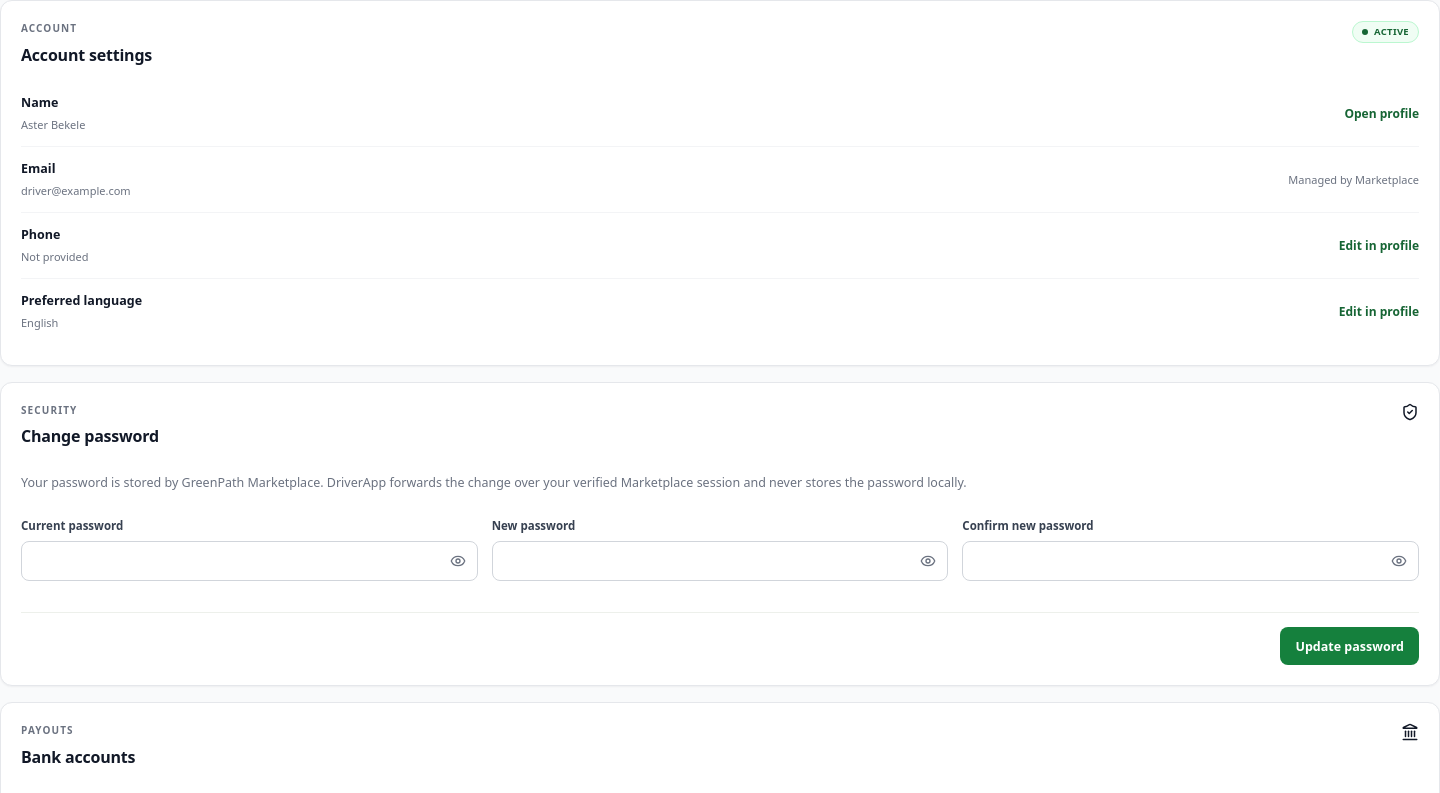
Test case: Driver settings › blocks submission when the new passwords do not match
The image size is (1440, 793).
Type "existing-password" into the password field labelled "Current password". click: {"x": 249, "y": 561}
box: [21, 541, 478, 581]
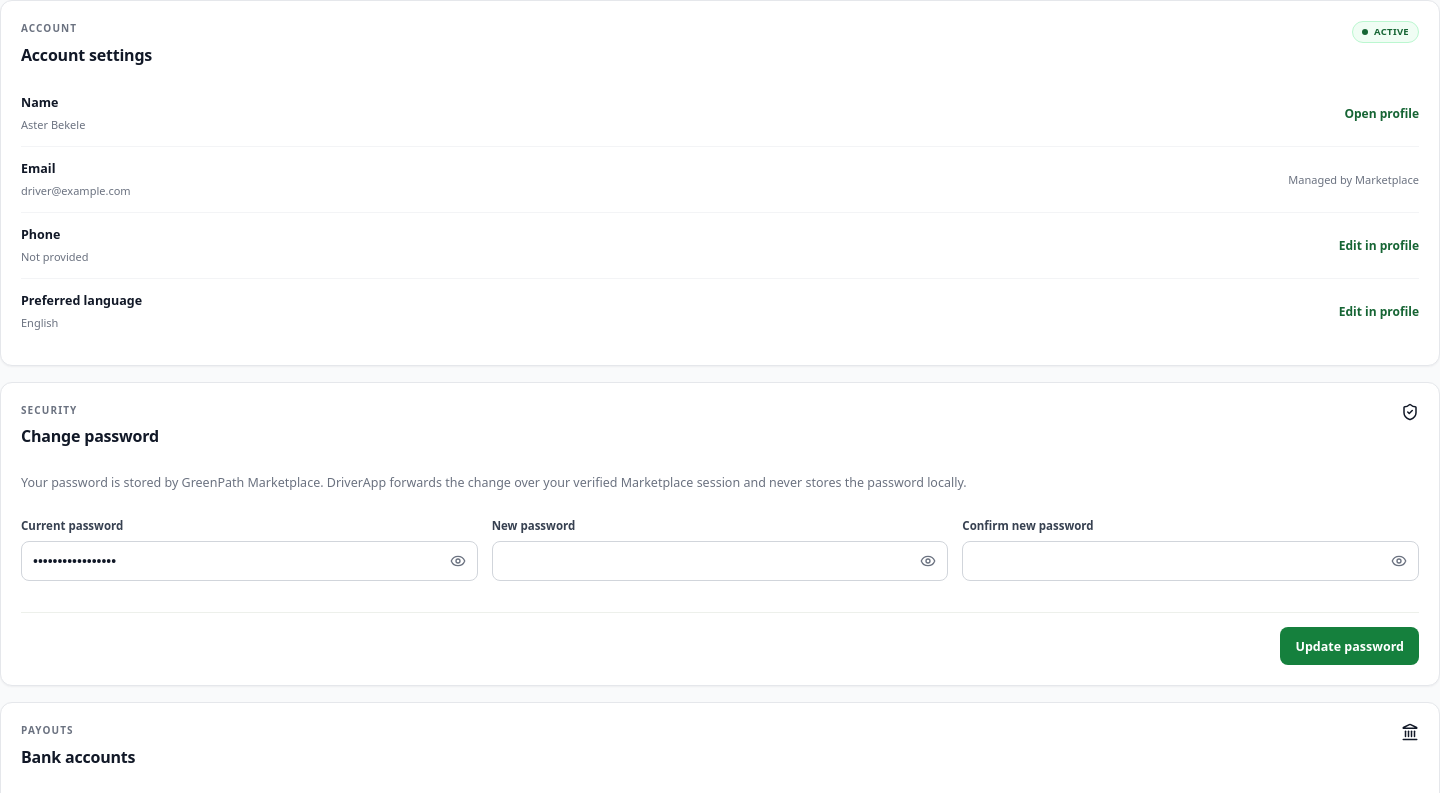
Type "new-password-123" into the password field labelled "New password". click: {"x": 720, "y": 561}
box: [492, 541, 948, 581]
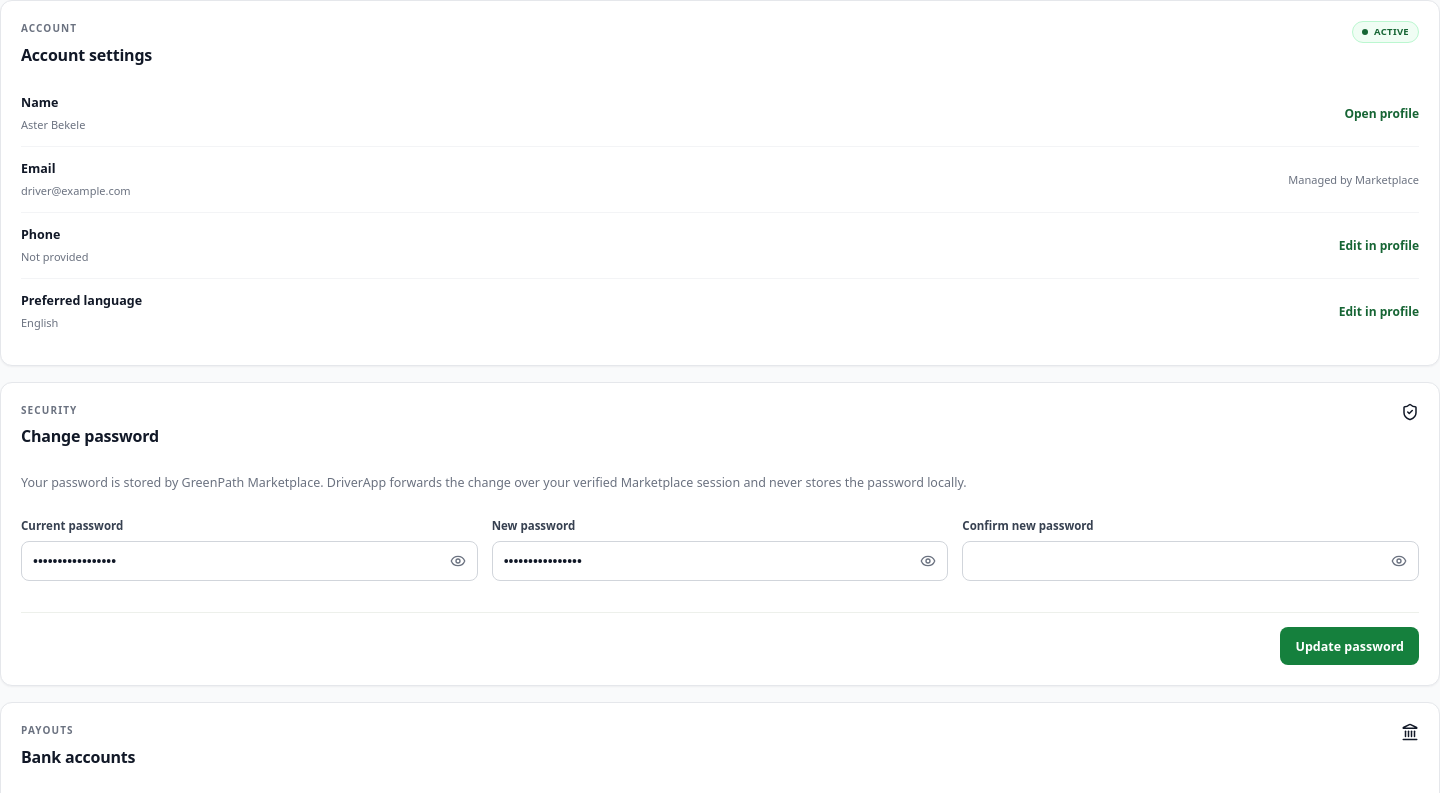
Type "different-password" into the password field labelled "Confirm new password". click: {"x": 1191, "y": 561}
box: [962, 541, 1419, 581]
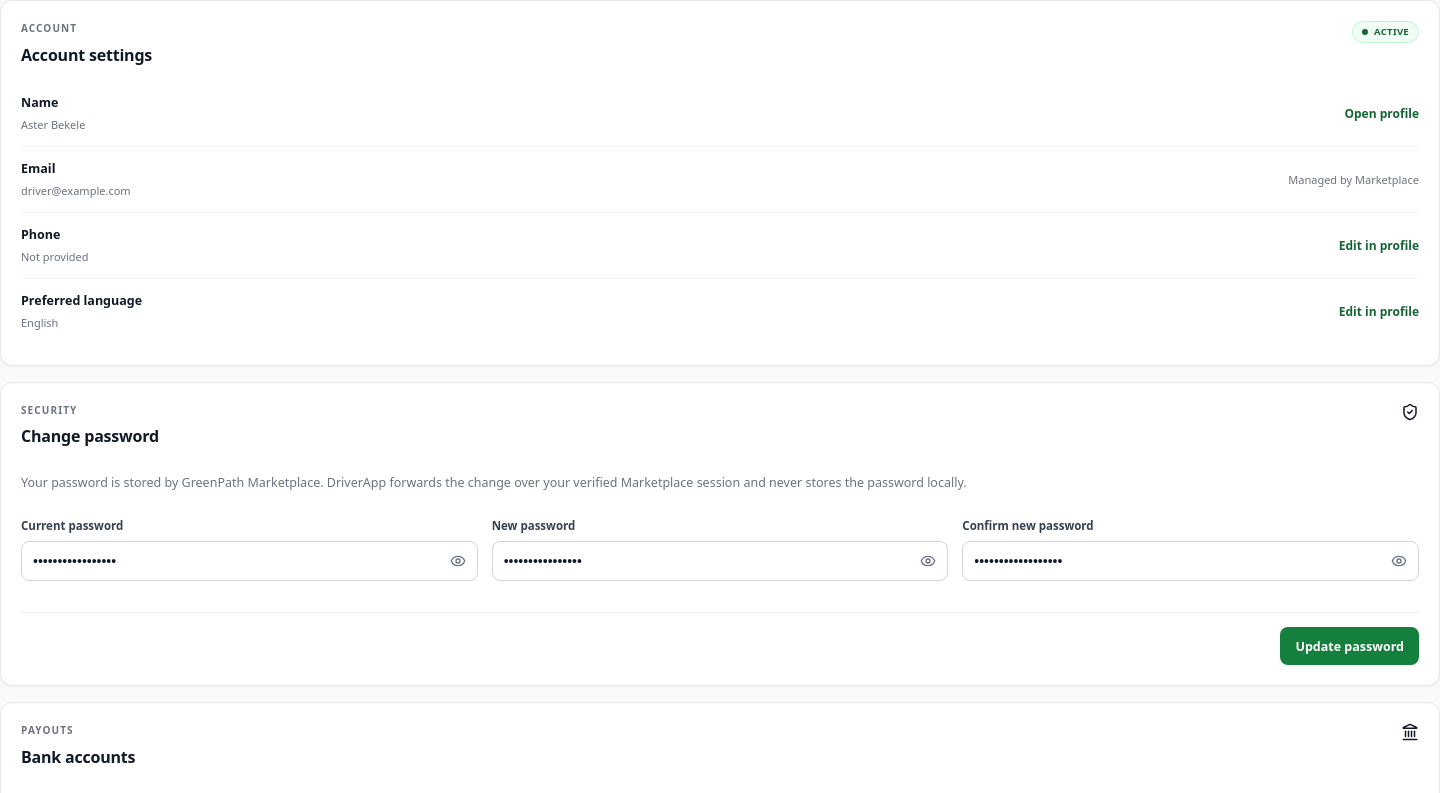
Click the button "Update password". click: {"x": 1350, "y": 646}
box: [1280, 627, 1419, 665]
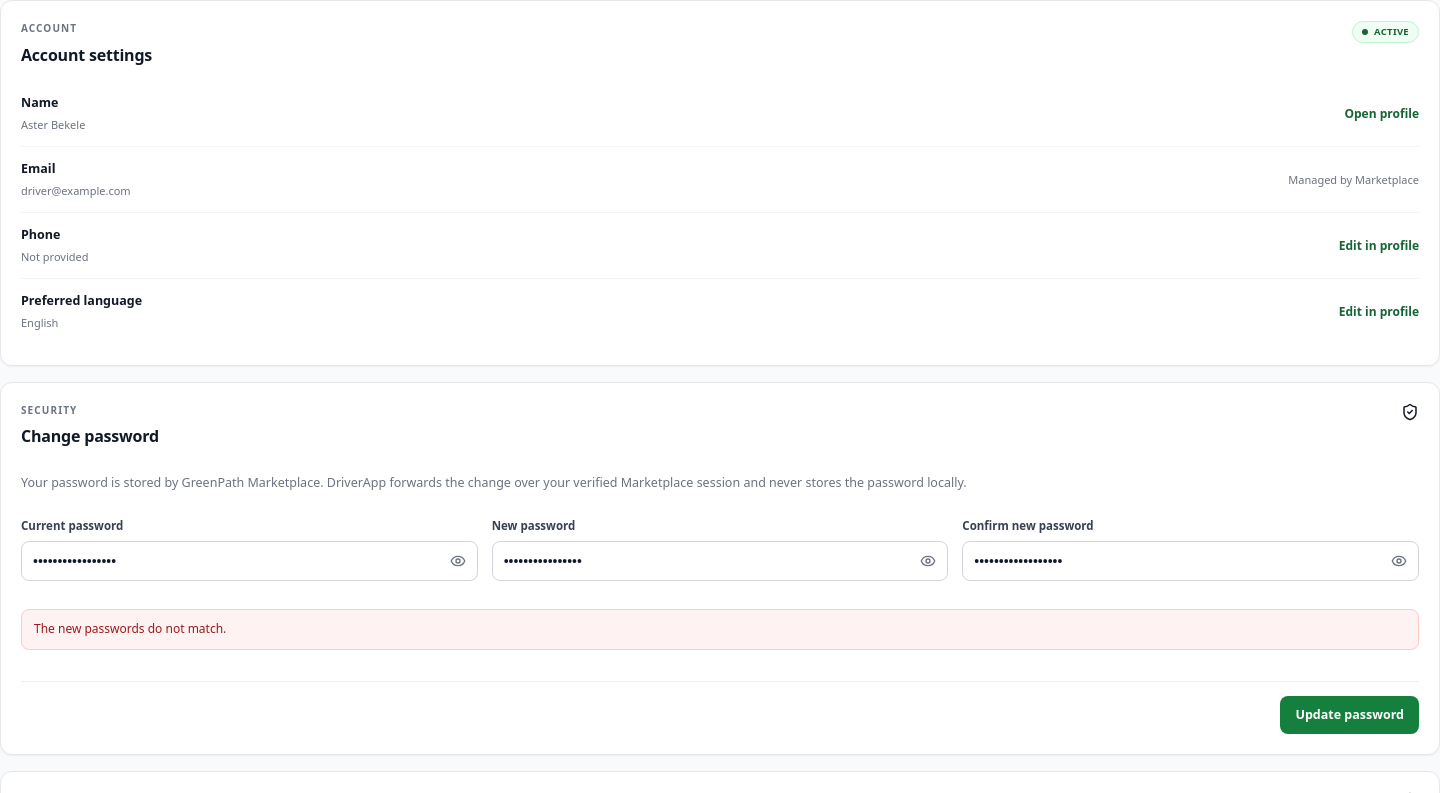
Expected: the message reads "The new passwords do not match.", [34, 620, 226, 637]
